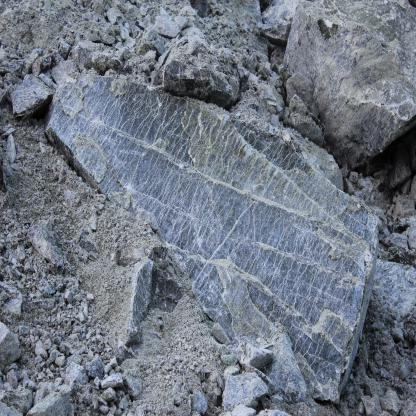stone: (50, 75, 378, 401), (162, 36, 233, 103), (10, 71, 53, 116), (219, 368, 268, 406)
